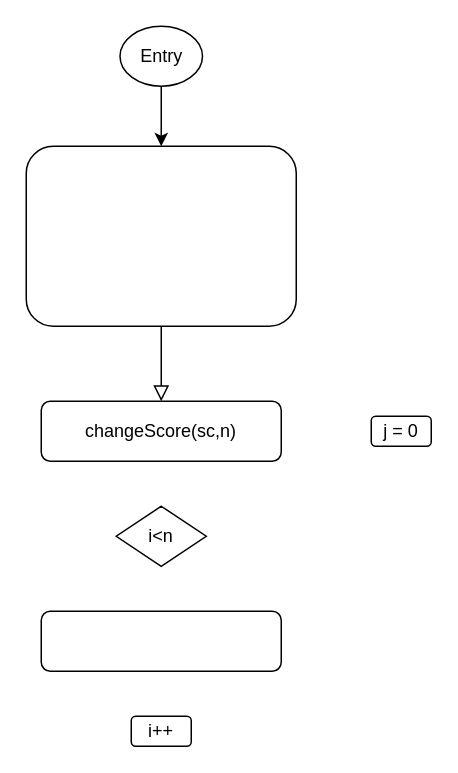
This 458x773 diagram has some shape labels left out. Here are the shapes that lost their labels. From the top down, the centre of each, then its label:
At point (160, 235): "total_credit = 0; sum = 0; gpa; sc[]; cr[]; n; i = 0;".
At point (160, 640): "total_credit += cr[i]".
